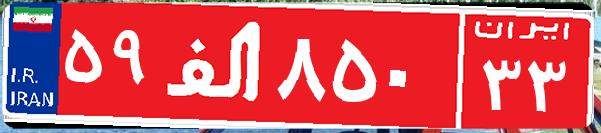0: (385, 28, 445, 110)
3: (475, 38, 525, 113), (525, 38, 570, 115)
5: (330, 28, 385, 110), (57, 26, 110, 107)
8: (273, 28, 330, 110)
9: (110, 28, 158, 105)
الف: (158, 15, 273, 115)
